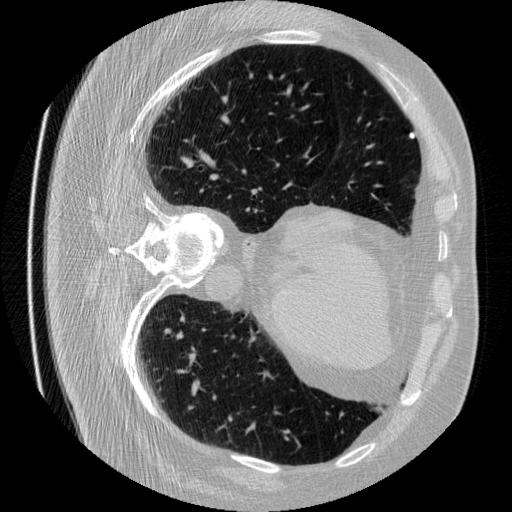nodule: (408, 130, 419, 141)
